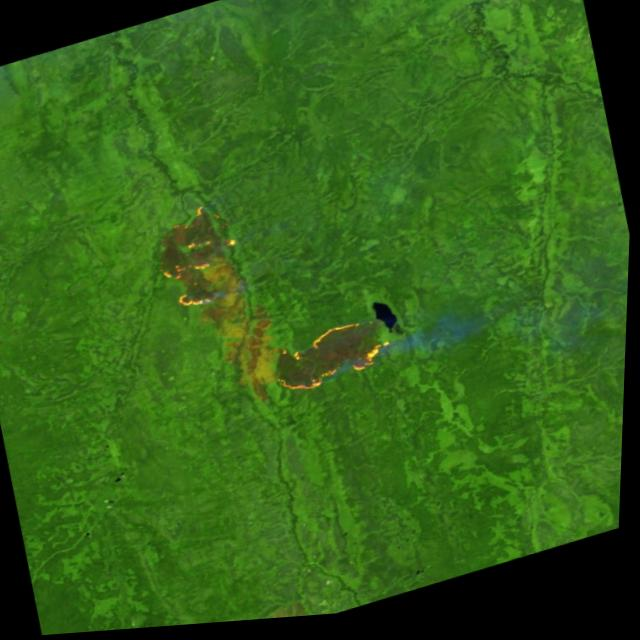fire: (148, 196, 257, 319), (265, 313, 403, 406)
